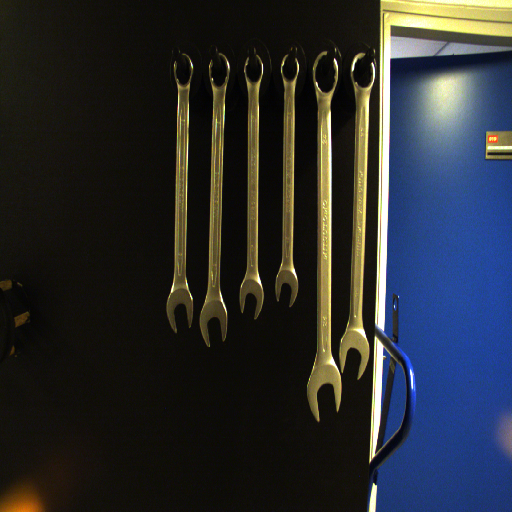bottom: (304, 361, 342, 423), (337, 328, 371, 381), (163, 287, 197, 334), (198, 300, 229, 350), (235, 276, 267, 320), (272, 267, 300, 308)
top: (308, 51, 340, 96), (197, 52, 234, 89), (348, 51, 377, 92), (169, 51, 198, 90), (241, 52, 265, 87), (277, 53, 302, 86)
